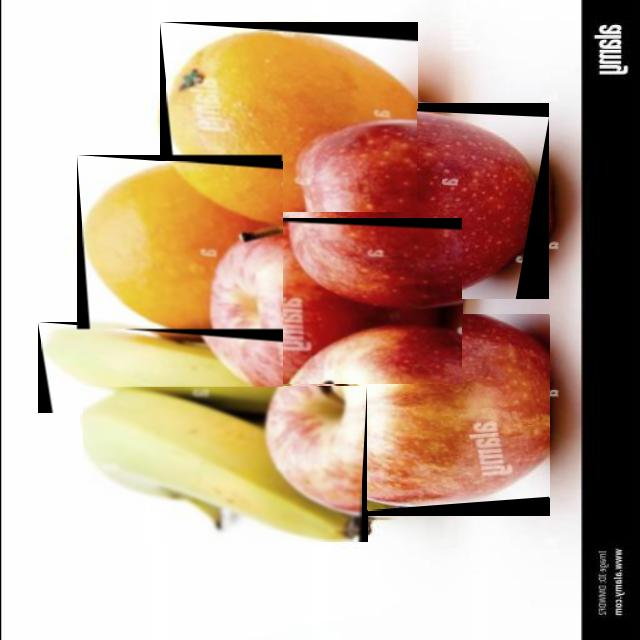Apple: (231, 109, 537, 299), (281, 315, 549, 510), (202, 221, 462, 384)
Banana: (84, 388, 362, 542), (42, 326, 283, 413)
Orange: (167, 29, 417, 212), (83, 162, 283, 328)
